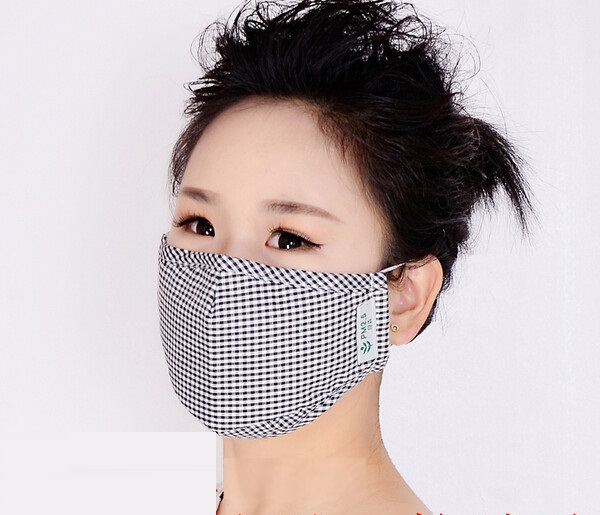face_mask: (157, 110, 382, 438)
